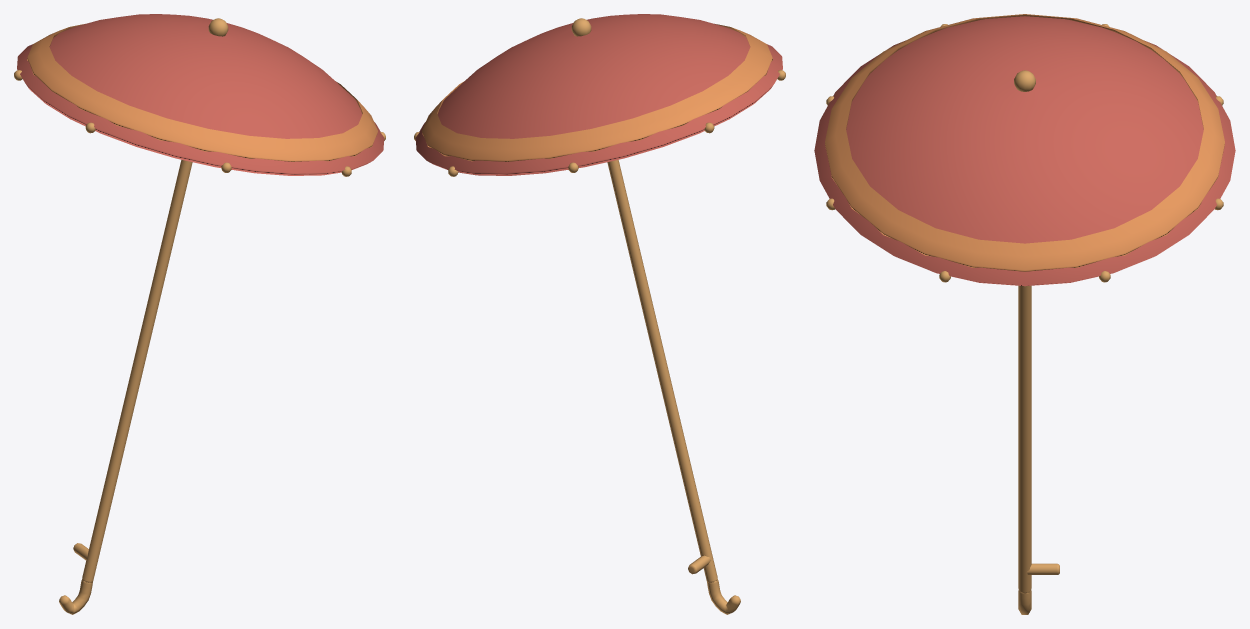
File: paradise_planning_umbrella.glb
The picture shows the model from 3 angles, left to right: view 1: azimuth 30°, elevation 25°; view 2: azimuth 150°, elevation 25°; view 3: azimuth 270°, elevation 25°; orthographic projection. The views are drawn at different scales.
Visible parts, largest first — view 1: paradise_planning_umbrella_ArmR; view 2: paradise_planning_umbrella_ArmR; view 3: paradise_planning_umbrella_ArmR.
Boxes of the visible parts, bbox=[...] form: paradise_planning_umbrella_ArmR: bbox=[14, 14, 385, 614]; paradise_planning_umbrella_ArmR: bbox=[414, 14, 785, 614]; paradise_planning_umbrella_ArmR: bbox=[814, 14, 1235, 614].
Size of the model in its own units: 0.8703 by 1.47 by 0.9.
